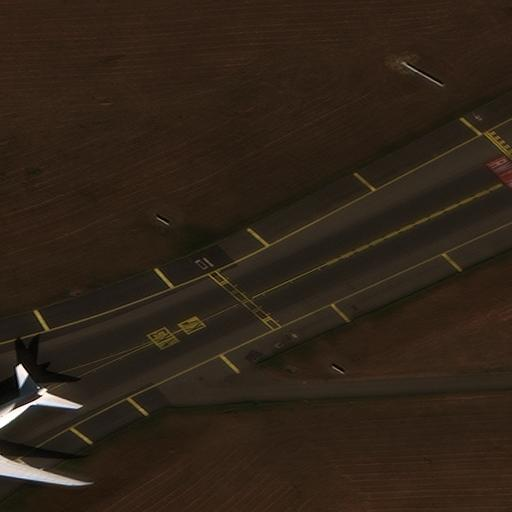Large Civil Transport: (0, 377, 80, 490)
